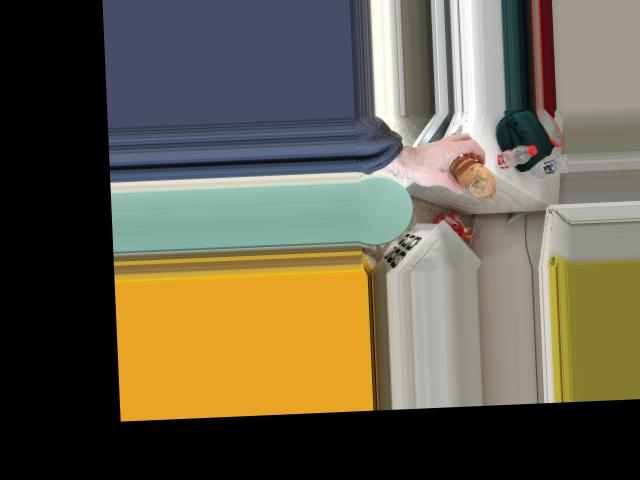sweet_potato: (446, 155, 495, 198)
